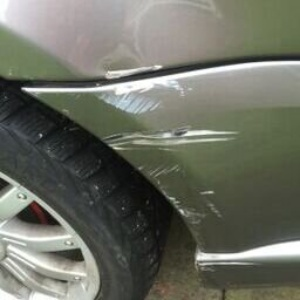bumper_scratch: (104, 59, 234, 291)
